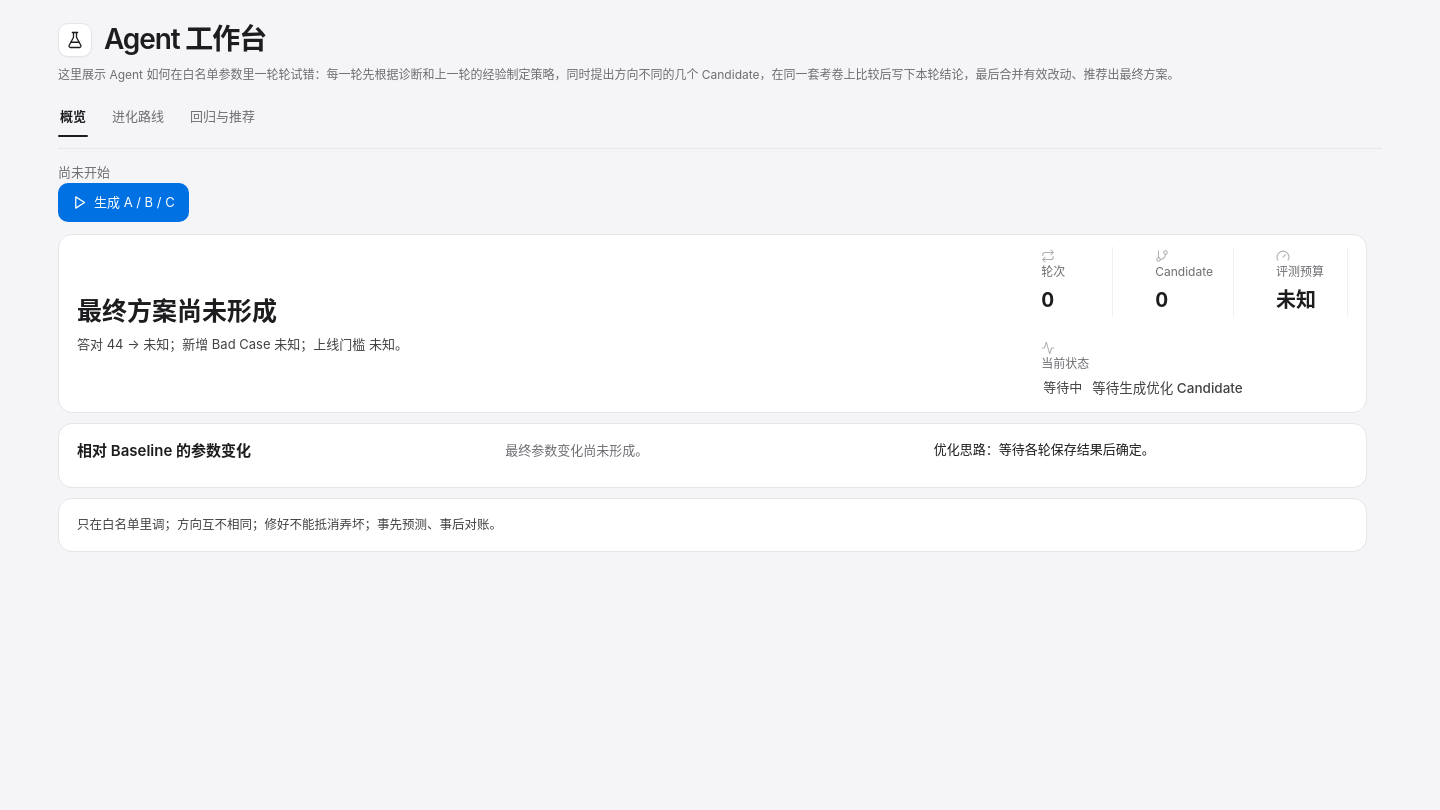
Test case: opens a confirmation before generation and cancels without any write
Later steps or results of the test are not shown.
Click the button "生成 A / B / C". click: (123, 202)
box: 58,183 -> 189,222
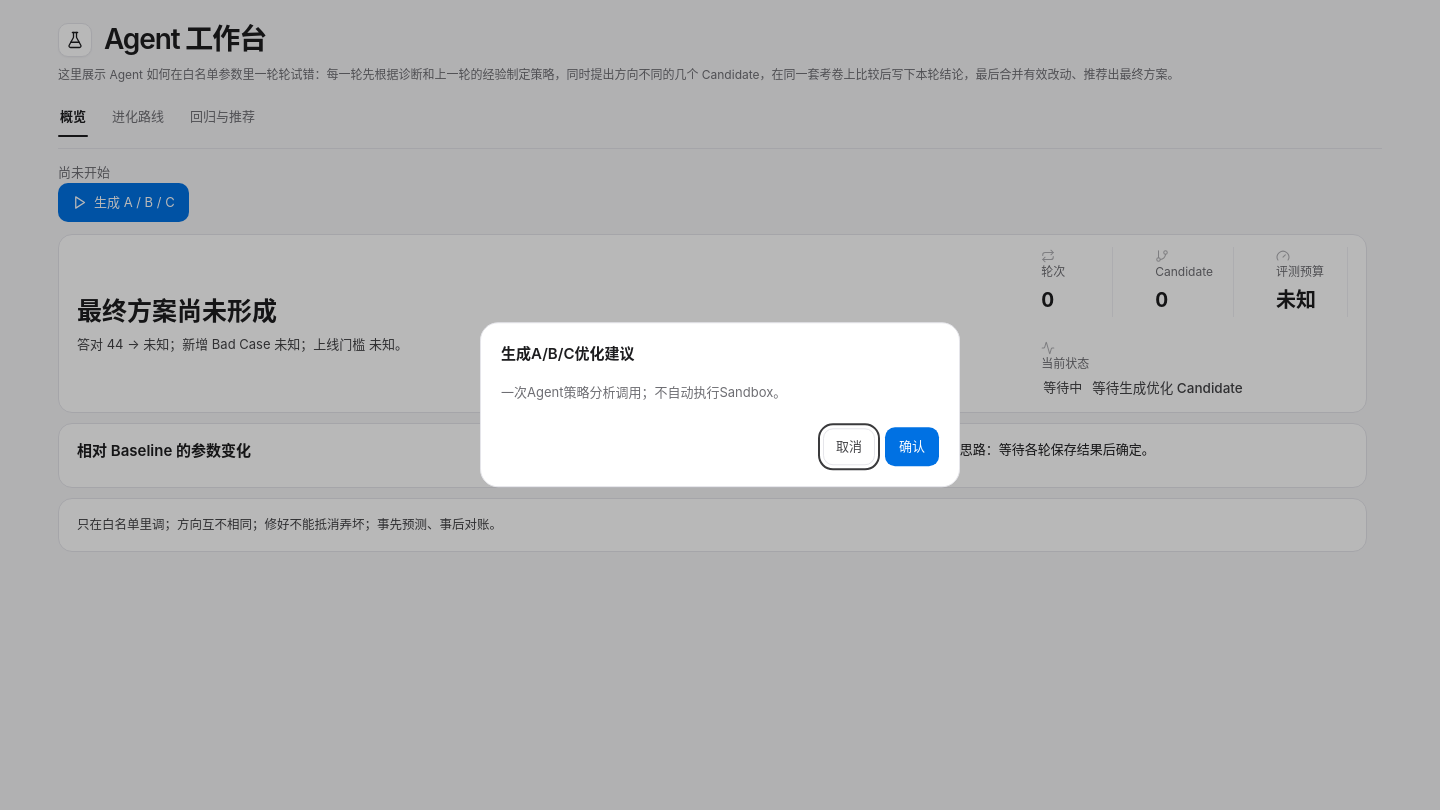
Check: the dialog with class "confirm-dialog" shows "生成A/B/C优化建议", box 501,344 -> 634,363
